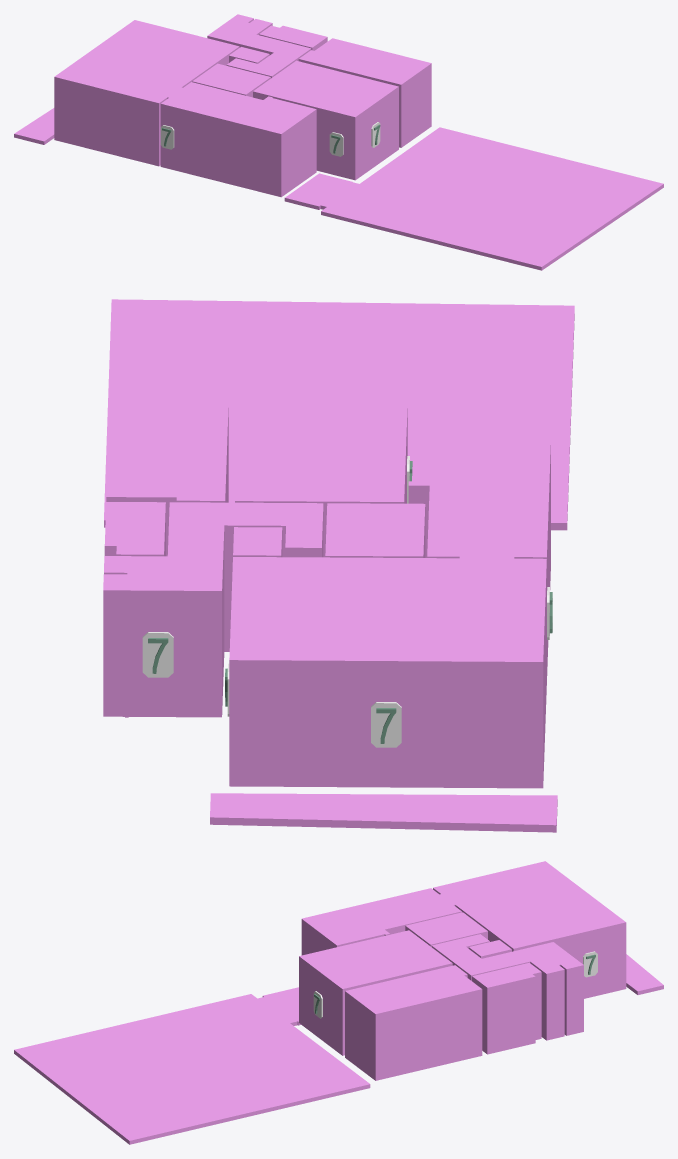
3 renders of one model, top to bottom at view 1: azimuth 30°, elevation 25°; view 2: azimuth 150°, elevation 25°; view 3: azimuth 270°, elevation 25°, orthographic. The views are drawn at different scales.
Visible parts, largest first — view 1: g_9, g_7, g_2, g_1, g_0, g_5, g_3, g_6, g_8, g_4; view 2: g_7, g_9, g_5, g_1, g_2, g_0, g_8, g_3, g_6, g_4, g_11, g_21; view 3: g_9, g_0, g_7, g_1, g_5, g_2, g_6, g_3, g_8, g_4.
Part boxes in pixels (left/top/right/bottom): g_9: left=284, top=127, right=663, bottom=270; g_7: left=54, top=20, right=239, bottom=166; g_2: left=160, top=82, right=316, bottom=197; g_1: left=253, top=60, right=398, bottom=180; g_0: left=298, top=38, right=431, bottom=147; g_5: left=207, top=14, right=311, bottom=78; g_3: left=192, top=63, right=270, bottom=97; g_6: left=259, top=25, right=327, bottom=50; g_8: left=14, top=108, right=54, bottom=144; g_4: left=229, top=47, right=269, bottom=63; g_7: left=229, top=557, right=546, bottom=788; g_9: left=104, top=299, right=574, bottom=530; g_5: left=103, top=502, right=323, bottom=717; g_1: left=235, top=400, right=407, bottom=557; g_2: left=408, top=437, right=550, bottom=675; g_0: left=106, top=399, right=228, bottom=556; g_8: left=210, top=793, right=557, bottom=832; g_3: left=325, top=503, right=425, bottom=557; g_6: left=104, top=502, right=165, bottom=556; g_4: left=233, top=527, right=282, bottom=557; g_11: left=142, top=632, right=173, bottom=677; g_21: left=371, top=702, right=401, bottom=747; g_9: left=14, top=987, right=370, bottom=1144; g_0: left=345, top=965, right=482, bottom=1080; g_7: left=433, top=861, right=626, bottom=998; g_1: left=299, top=930, right=452, bottom=1055; g_5: left=431, top=934, right=583, bottom=1040; g_2: left=301, top=888, right=461, bottom=955; g_6: left=472, top=962, right=541, bottom=1054; g_3: left=405, top=912, right=487, bottom=946; g_8: left=626, top=954, right=663, bottom=994; g_4: left=468, top=940, right=511, bottom=958.
Size of the model in its own units: 18.6 by 2.74 by 22.73.
